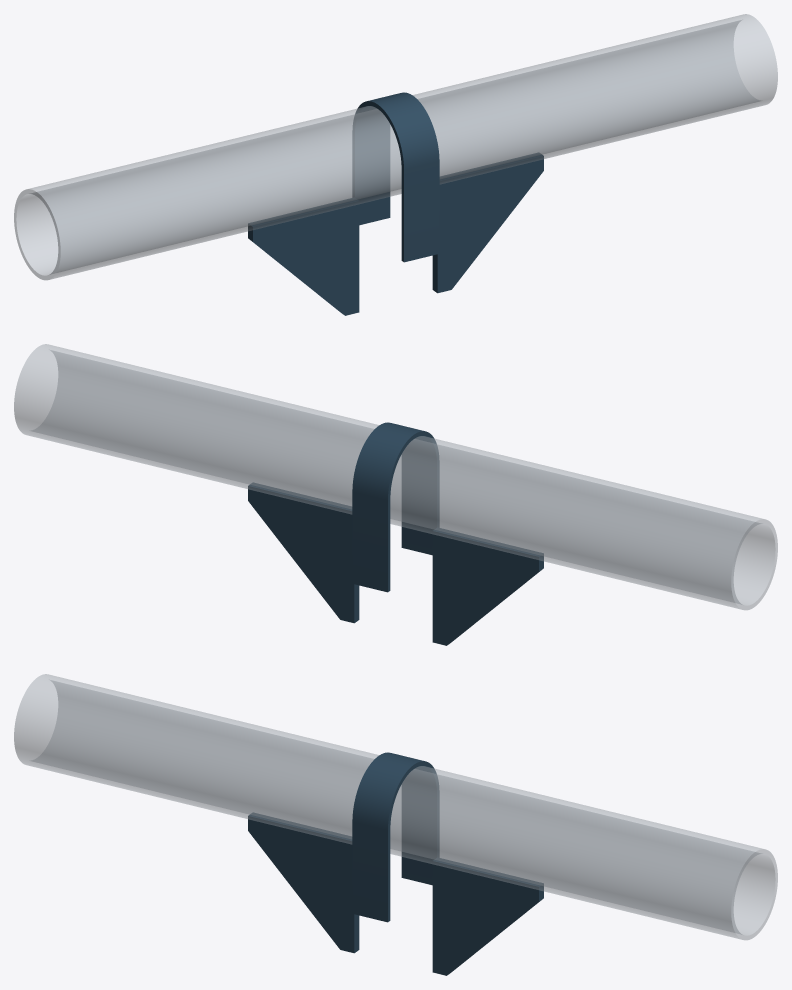
The model's file is TS-659.00.00-03-opora-dn57.glb.
The picture shows the model from 3 angles, top to bottom: view 1: azimuth 30°, elevation 25°; view 2: azimuth 150°, elevation 25°; view 3: azimuth 330°, elevation 25°; orthographic projection.
Visible parts, largest first — view 1: truba, homut, upor_2, upor_1; view 2: truba, homut, upor_2, upor_1; view 3: truba, homut, upor_1, upor_2.
Boxes of the visible parts, x1=… form: truba: x1=14, y1=14, x2=777, y2=280; homut: x1=352, y1=92, x2=439, y2=262; upor_2: x1=248, y1=198, x2=359, y2=315; upor_1: x1=432, y1=153, x2=543, y2=293; truba: x1=14, y1=344, x2=777, y2=610; homut: x1=352, y1=422, x2=439, y2=592; upor_2: x1=432, y1=528, x2=543, y2=645; upor_1: x1=248, y1=483, x2=359, y2=623; truba: x1=14, y1=674, x2=777, y2=940; homut: x1=352, y1=752, x2=439, y2=922; upor_1: x1=432, y1=858, x2=543, y2=975; upor_2: x1=248, y1=813, x2=359, y2=953.
Bounding box in the file's own units: 505 × 135 × 63.
